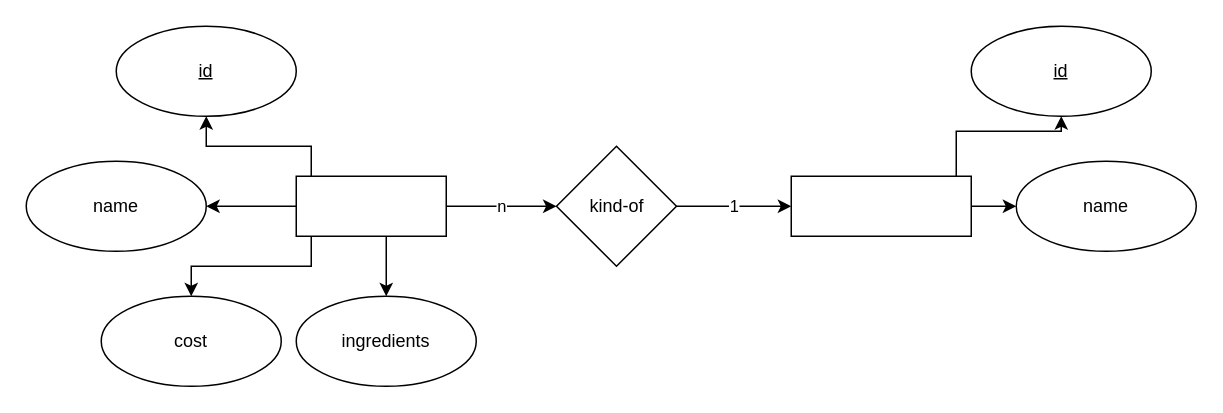
Image size: 1223x413. Some labels were removed from this diagram. The centre of each missing label's shape, as x and y in pixels:
"diet" belongs at pixel 880 205.
"pizza" belongs at pixel 370 205.
